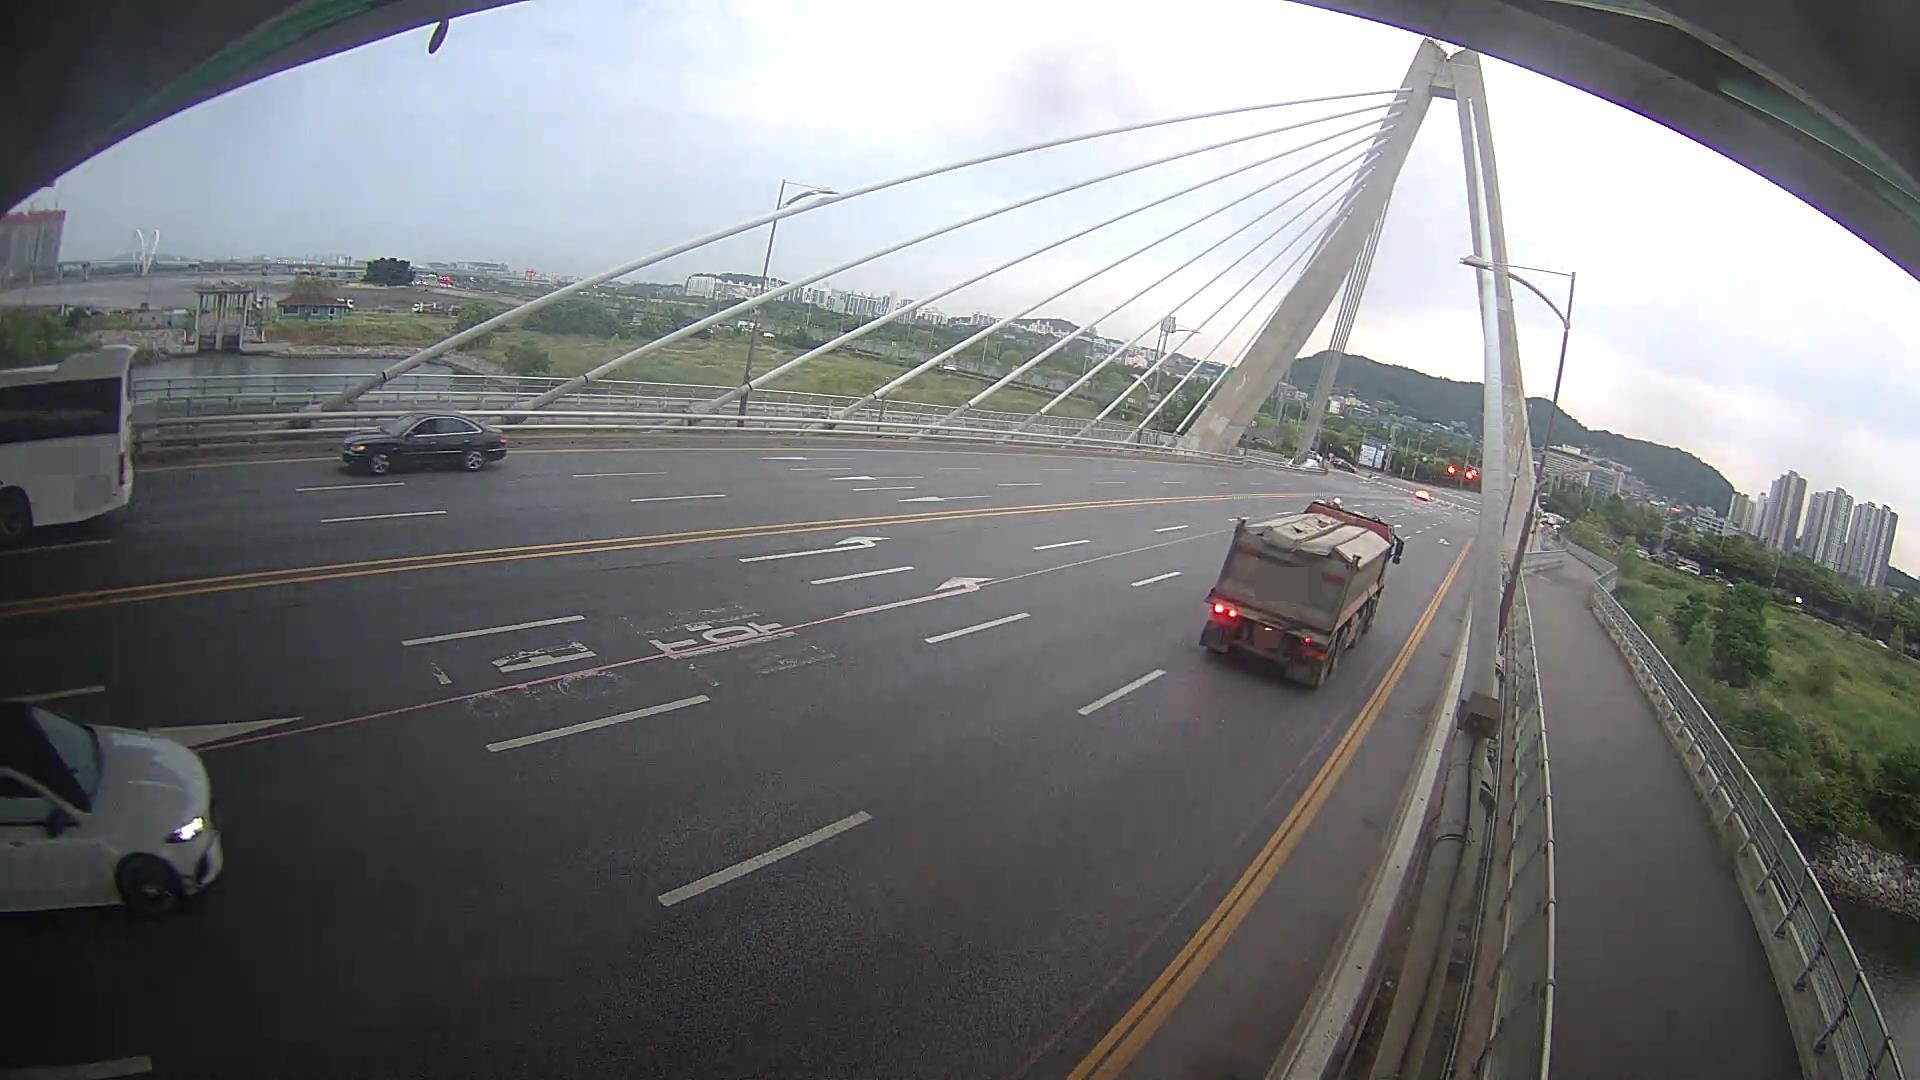정상차량: (1199, 497, 1404, 688)
